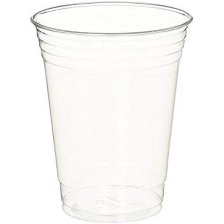glass: (28, 0, 195, 224)
